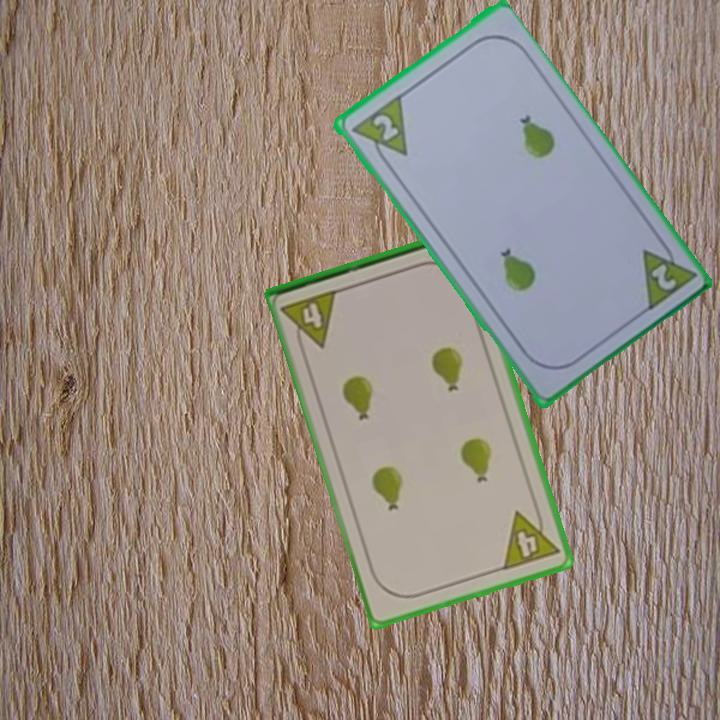2p: (637, 232, 698, 315), (368, 110, 401, 144)
4p: (499, 502, 562, 574), (278, 286, 341, 356)
